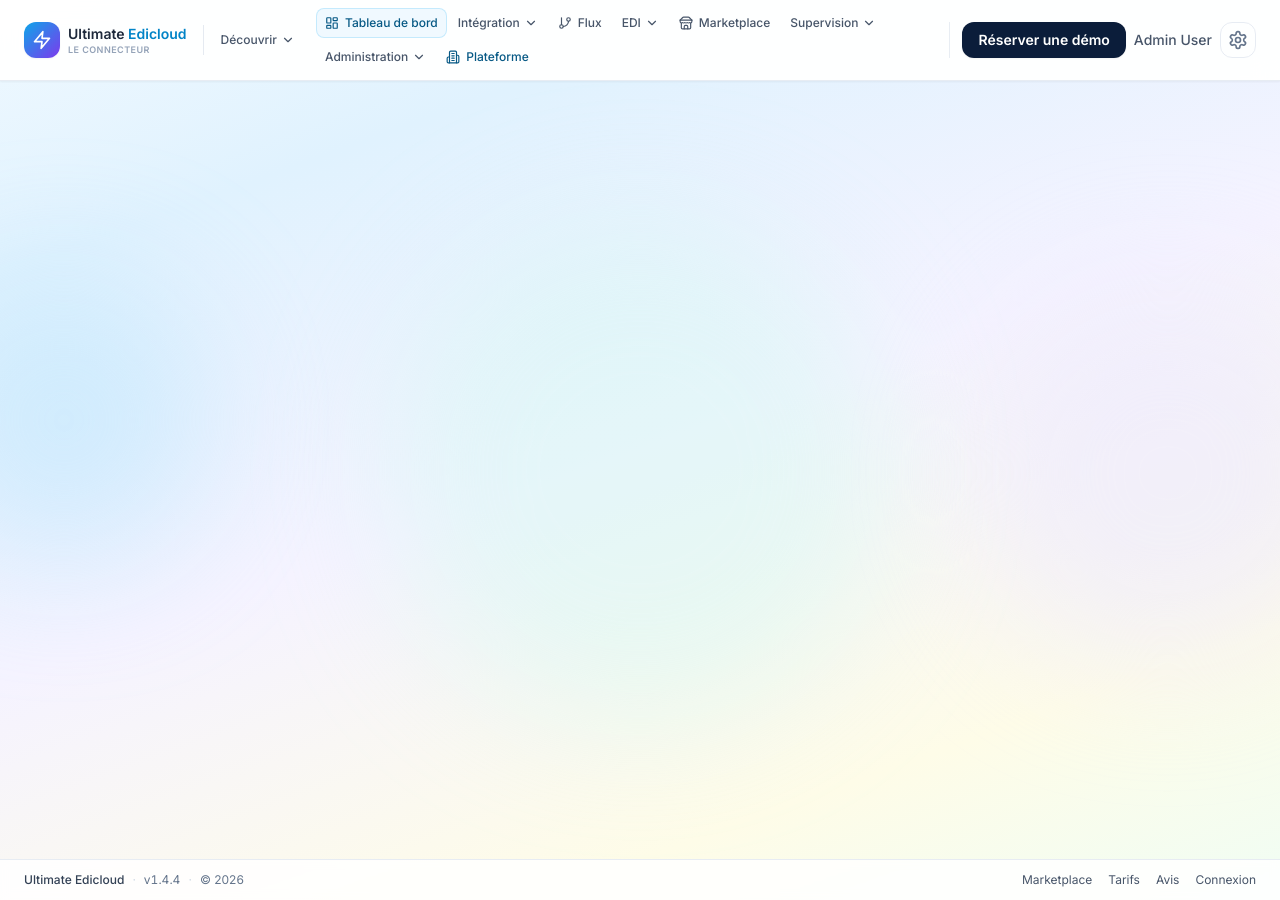
Scenario: Navigation — boutons › bouton menu paramètres ouvre le menu déroulant (aria-expanded)
Step 1. Click the button named "paramètres et compte" → (1238, 40), box left=1220, top=22, right=1256, bottom=58
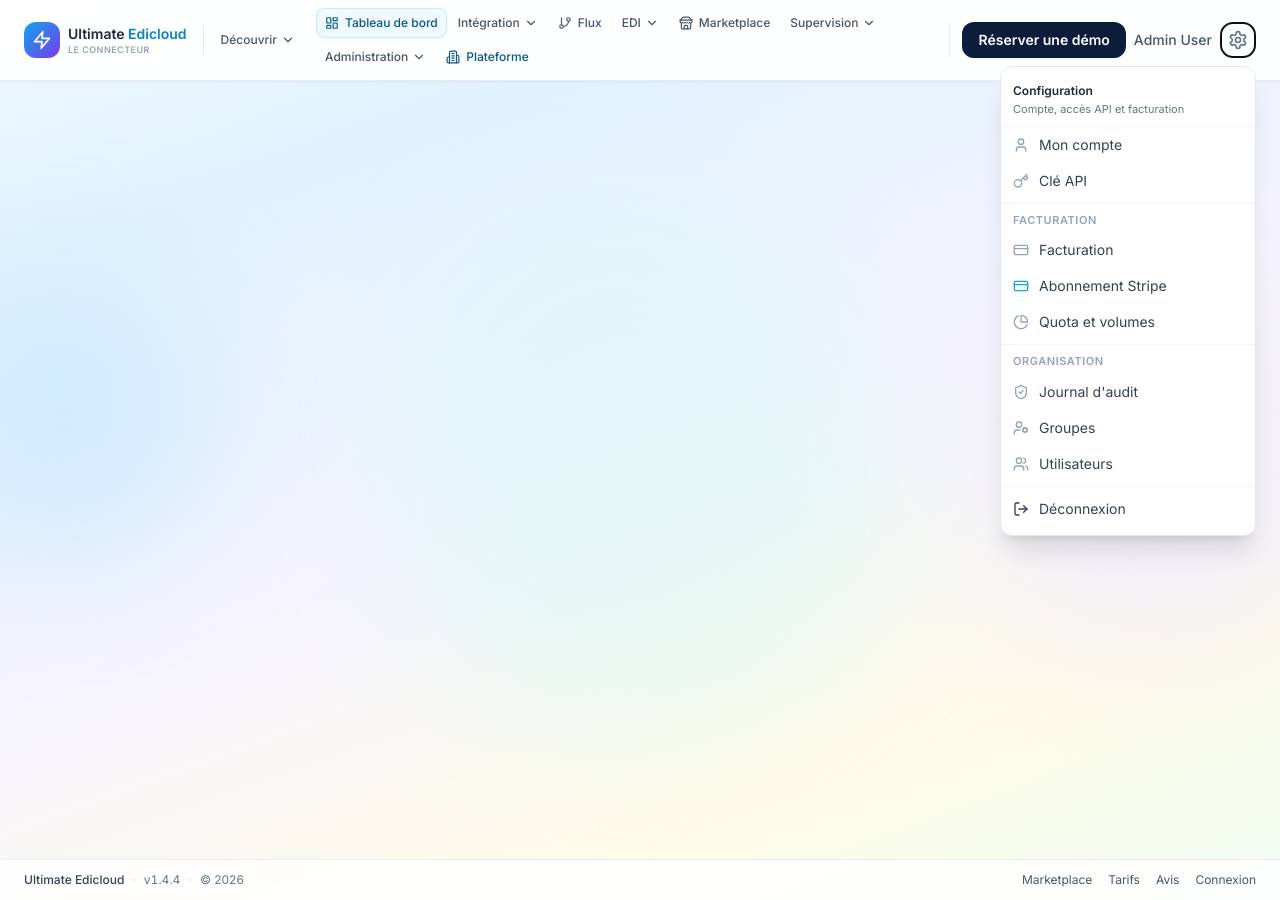
Check: the button named "paramètres et compte" is expanded, box left=1220, top=22, right=1256, bottom=58
